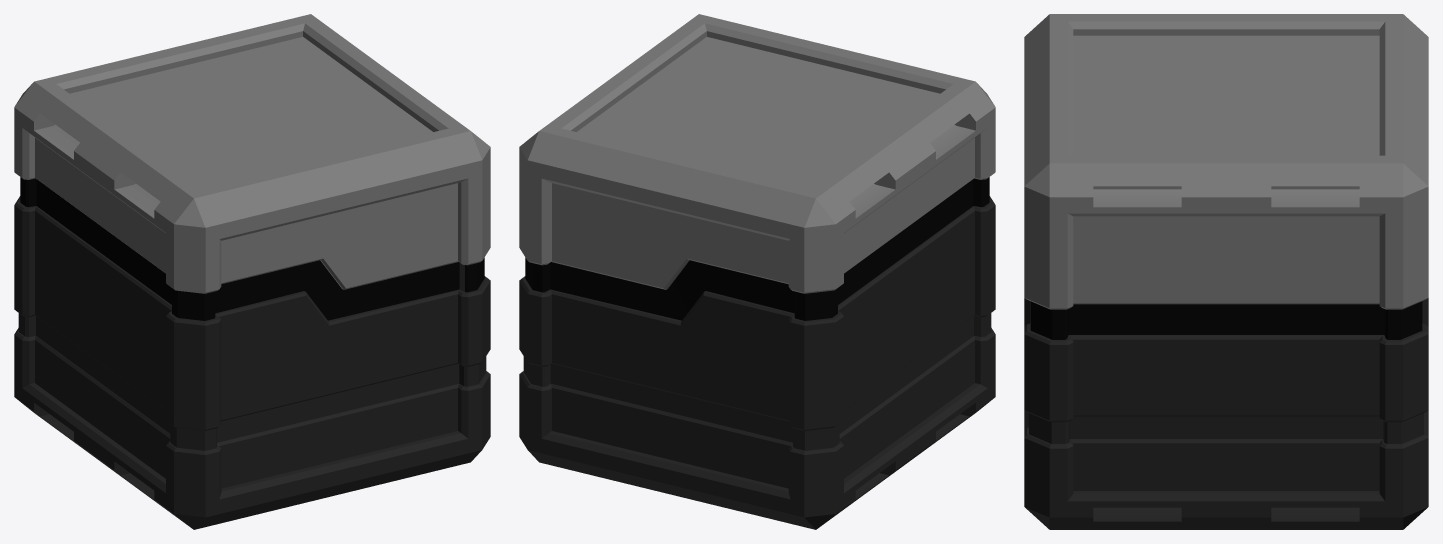
The model's file is Scifi_Cube.fbx.
3 views of the same model, side by side, from view 1: azimuth 30°, elevation 25°; view 2: azimuth 150°, elevation 25°; view 3: azimuth 270°, elevation 25° (orthographic). The views are drawn at different scales.
Visible parts, largest first — view 1: Cube.024; view 2: Cube.024; view 3: Cube.024.
Boxes of the visible parts, box(x1,y1,x2,y2) form: Cube.024: box(14, 14, 490, 529); Cube.024: box(519, 14, 995, 529); Cube.024: box(1024, 14, 1428, 529).
Size of the model in its own units: 144 by 144 by 144.
